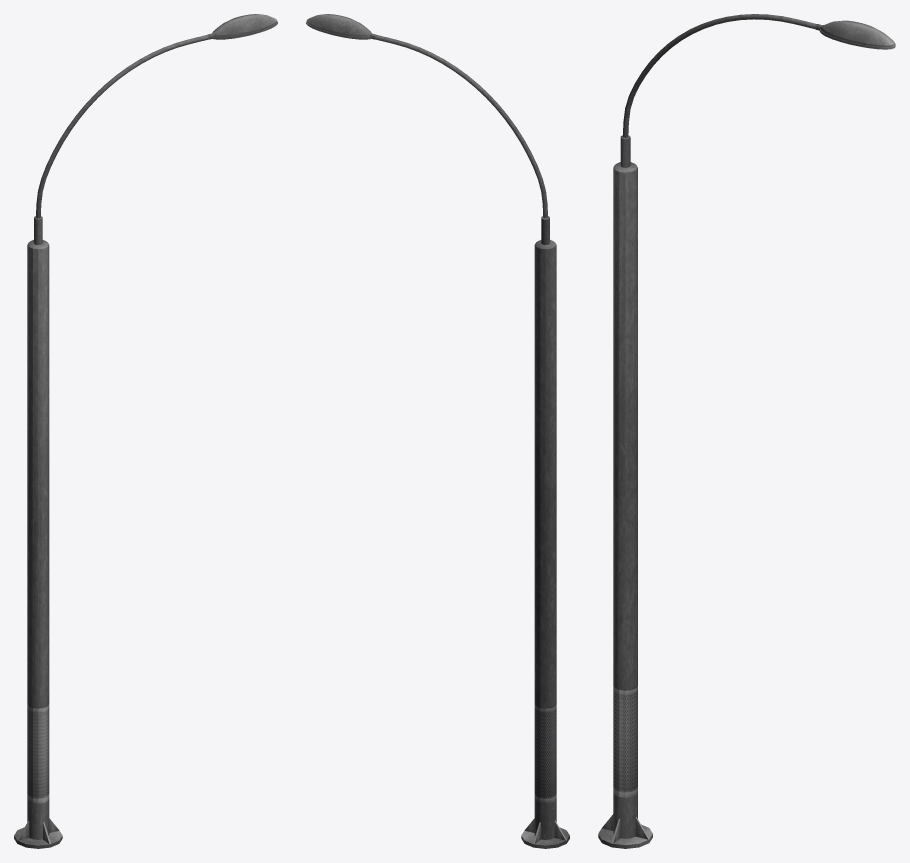
The picture shows the model from 3 angles, left to right: view 1: azimuth 30°, elevation 25°; view 2: azimuth 150°, elevation 25°; view 3: azimuth 330°, elevation 25°; orthographic projection. The views are drawn at different scales.
Parts seen in each view (by area): view 1: MainBuilding; view 2: MainBuilding; view 3: MainBuilding.
Boxes of the visible parts, x1=… form: MainBuilding: x1=14, y1=14, x2=277, y2=848; MainBuilding: x1=306, y1=14, x2=569, y2=848; MainBuilding: x1=598, y1=14, x2=895, y2=848.
Size of the model in its own units: 3.12 by 8.86 by 0.505.
1 material, 1 textured.
